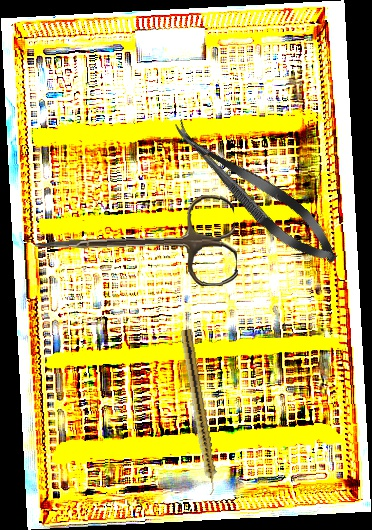Handpiece: (176, 328, 221, 497)
Iris Scissors: (32, 193, 239, 296)
Micro Scissor: (161, 109, 348, 276)
